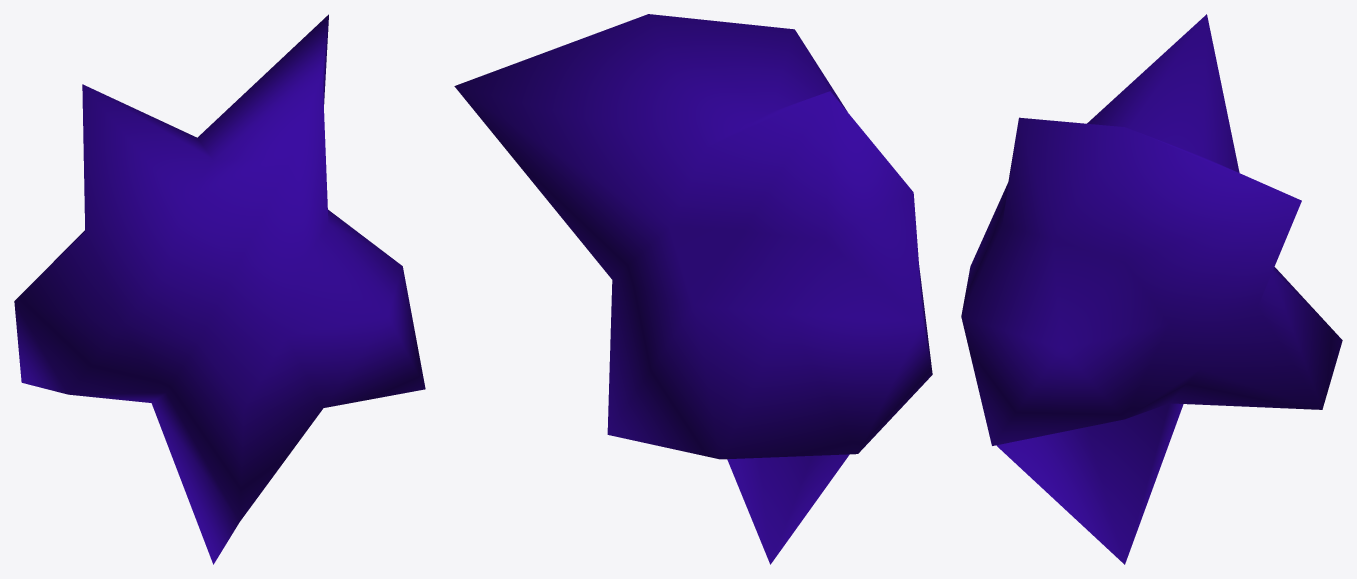
File: AlienShrapnelBlue.fbx
3 views of the same model, side by side, from view 1: azimuth 30°, elevation 25°; view 2: azimuth 150°, elevation 25°; view 3: azimuth 270°, elevation 25° (orthographic). The views are drawn at different scales.
Parts seen in each view (by area): view 1: Icosphere; view 2: Icosphere; view 3: Icosphere.
Part boxes in pixels (<box>): Icosphere: <box>14,14,425,564</box>; Icosphere: <box>454,14,932,564</box>; Icosphere: <box>961,14,1342,564</box>.
Size of the model in its own units: 1.56 by 1.93 by 1.32.
